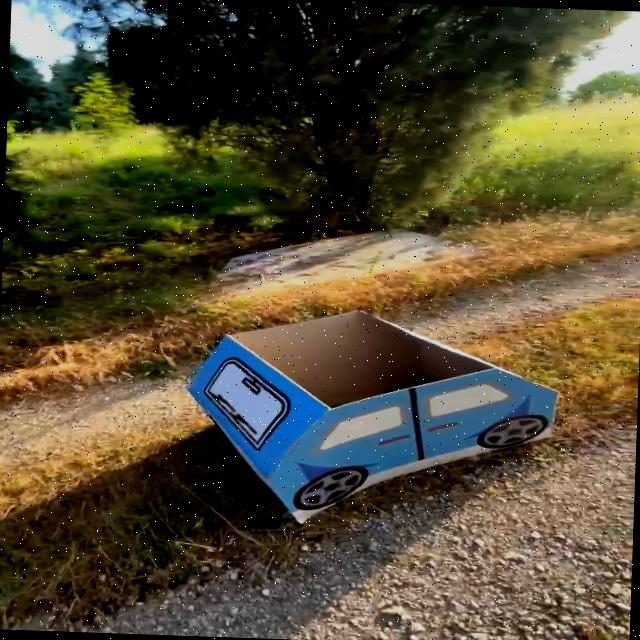blue_car: (120, 279, 609, 547)
